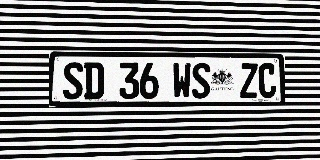3: (119, 62, 139, 99)
6: (140, 63, 159, 99)
C: (258, 63, 276, 98)
D: (84, 62, 104, 99)
S: (63, 62, 83, 99), (192, 63, 210, 99)
W: (172, 63, 191, 99)
Z: (240, 63, 258, 98)
